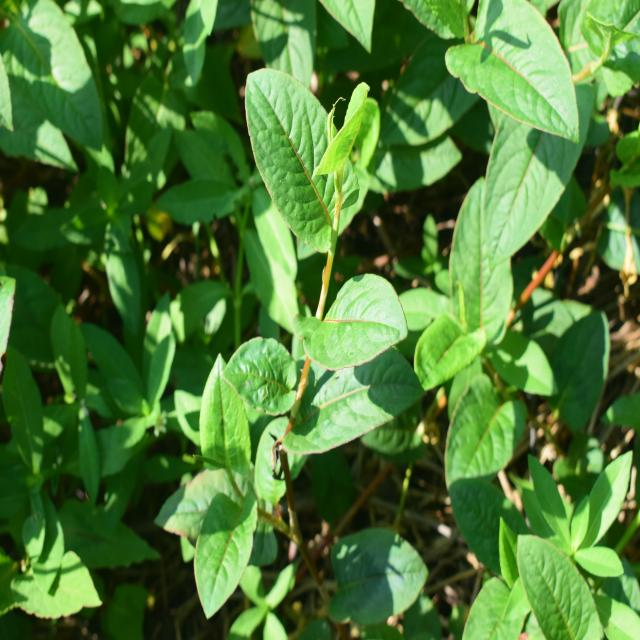Chinese_knotweed: (236, 35, 420, 503)
